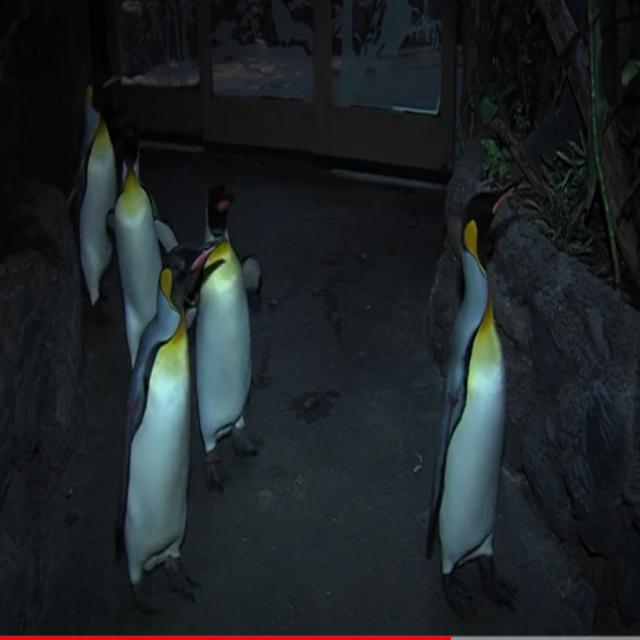Penguin: (422, 176, 526, 624), (123, 226, 201, 604), (190, 182, 266, 482), (105, 125, 173, 384), (70, 67, 130, 312)
